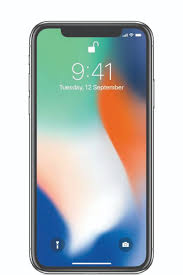iphone: (25, 18, 153, 273)
iphone10: (25, 17, 155, 275)
